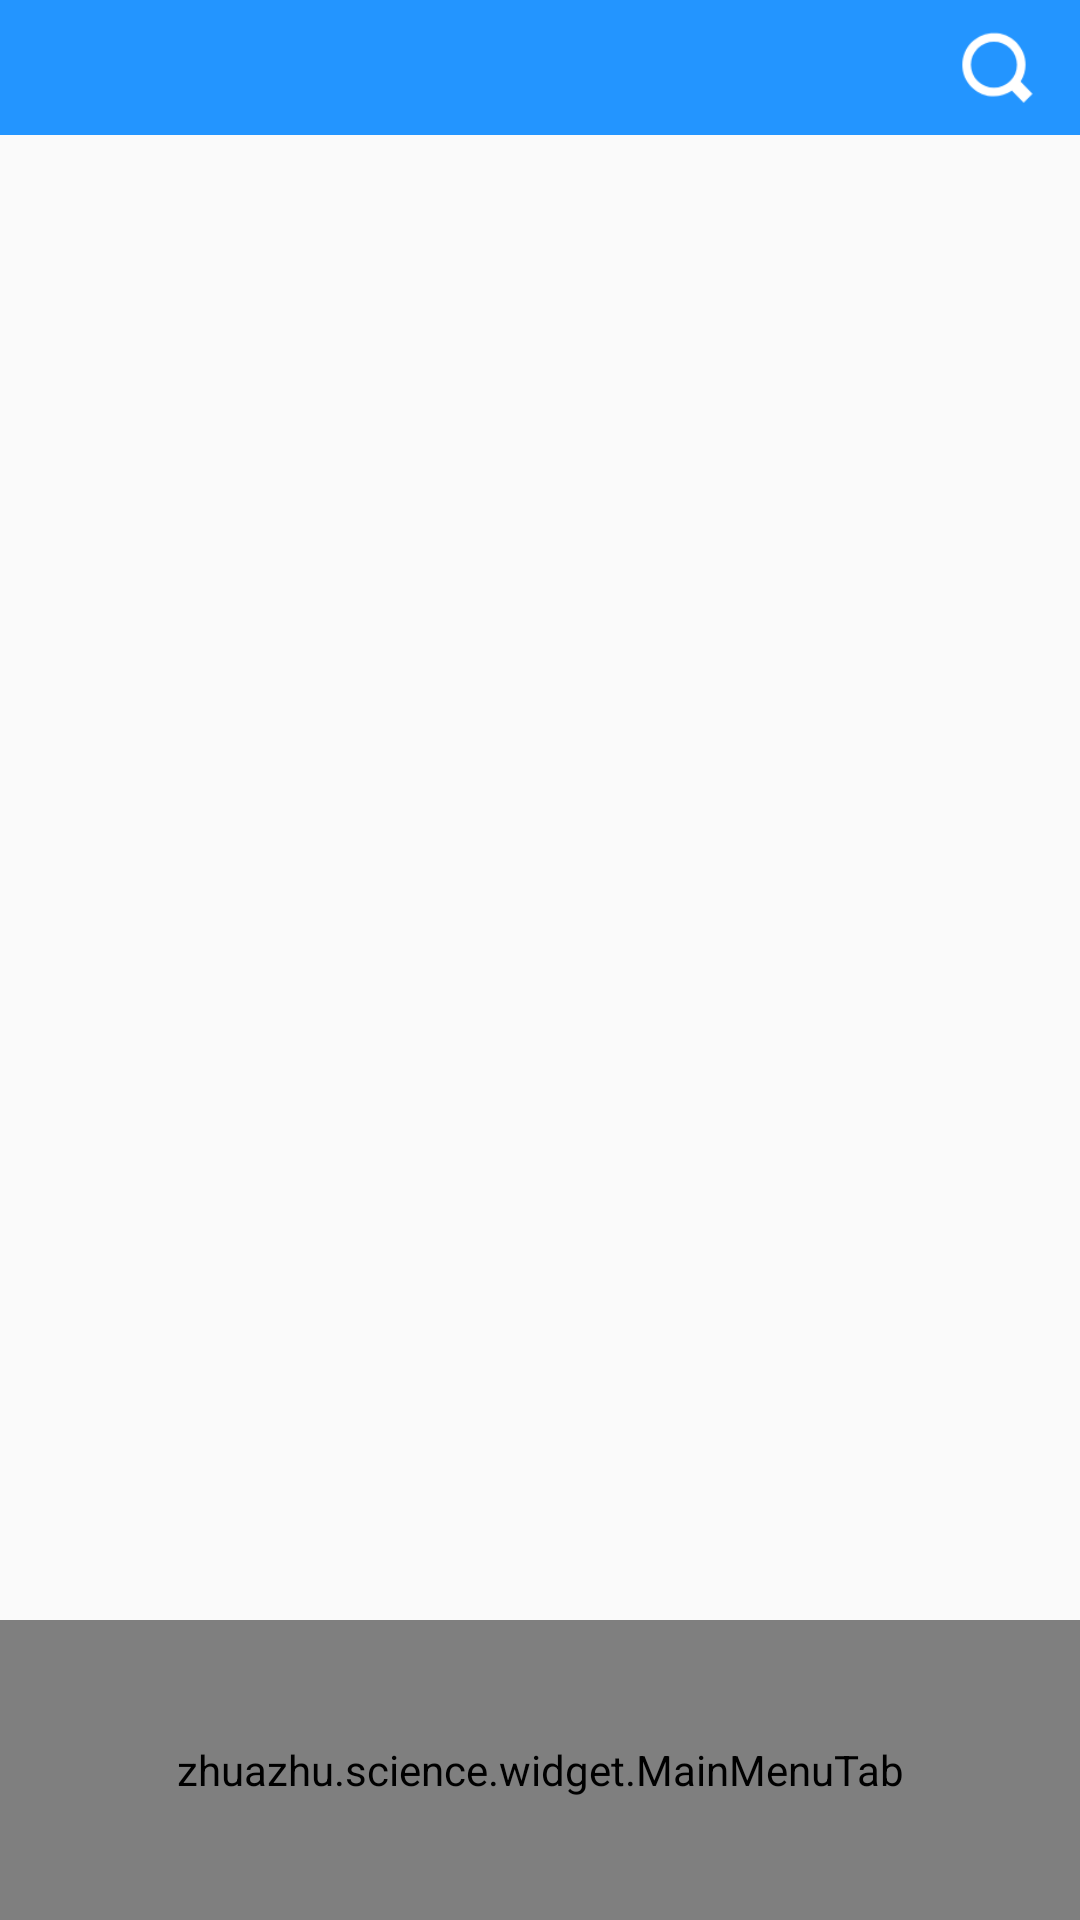

Where icons sit on this 1080 x 1920 app screen, as [x1,y1,x2,y2]:
search: [962,32,1033,103]
